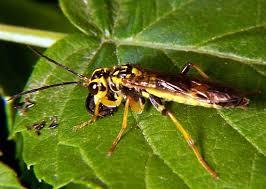insect: (8, 38, 266, 183)
